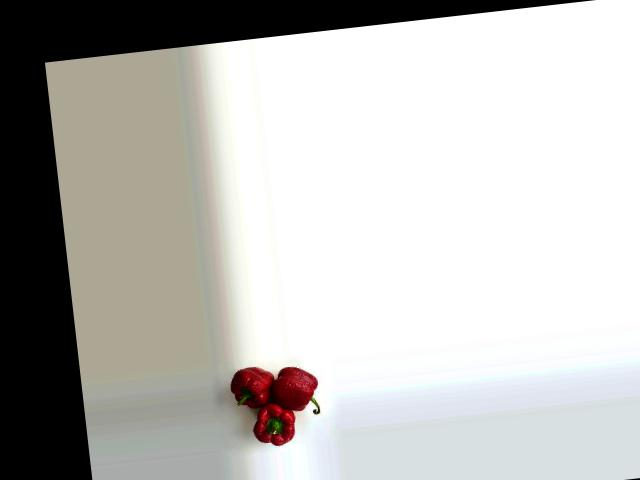bell_pepper: (273, 360, 331, 421)
